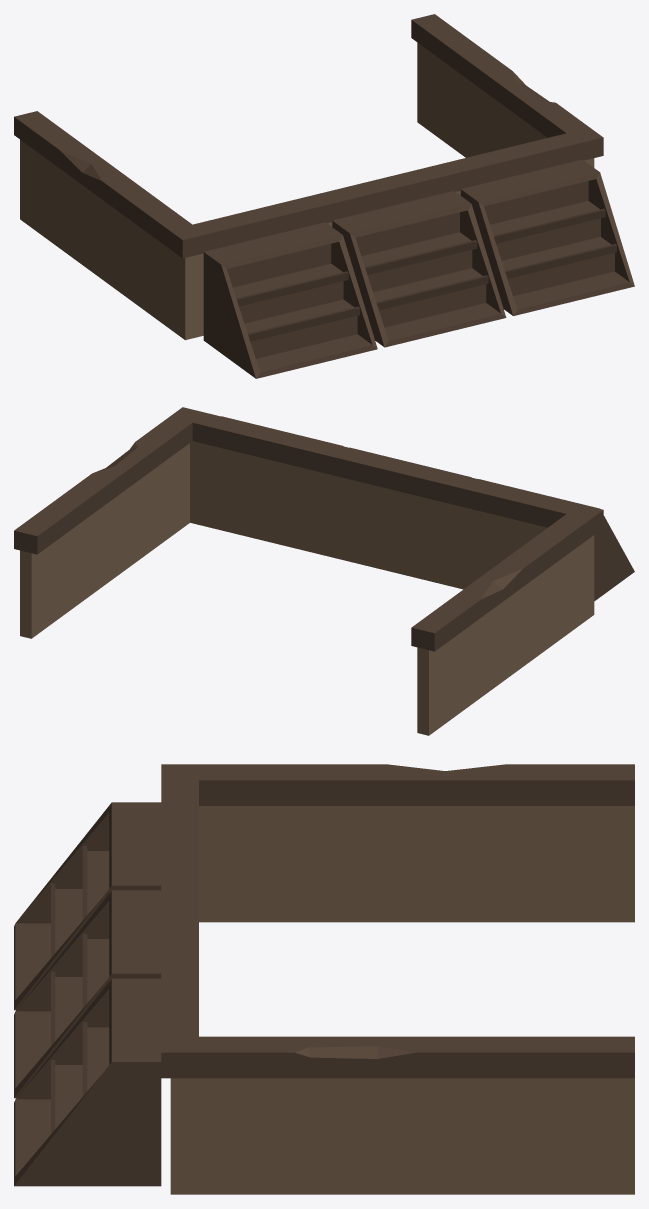
The model's file is SM_Bldg_Farm_Stall_02.fbx.
The picture shows the model from 3 angles, top to bottom: view 1: azimuth 30°, elevation 25°; view 2: azimuth 150°, elevation 25°; view 3: azimuth 270°, elevation 25°; orthographic projection. The views are drawn at different scales.
Parts seen in each view (by area): view 1: SM_Bldg_Farm_Stall_01_Box, SM_Bldg_Farm_Stall_02; view 2: SM_Bldg_Farm_Stall_02, SM_Bldg_Farm_Stall_01_Box; view 3: SM_Bldg_Farm_Stall_02, SM_Bldg_Farm_Stall_01_Box.
Boxes of the visible parts, bbox=[...] form: SM_Bldg_Farm_Stall_01_Box: bbox=[203, 159, 634, 378]; SM_Bldg_Farm_Stall_02: bbox=[14, 14, 603, 340]; SM_Bldg_Farm_Stall_02: bbox=[14, 407, 603, 735]; SM_Bldg_Farm_Stall_01_Box: bbox=[221, 416, 634, 601]; SM_Bldg_Farm_Stall_02: bbox=[161, 764, 634, 1194]; SM_Bldg_Farm_Stall_01_Box: bbox=[14, 802, 161, 1186].
Size of the model in its own units: 360 by 86.25 by 328.
